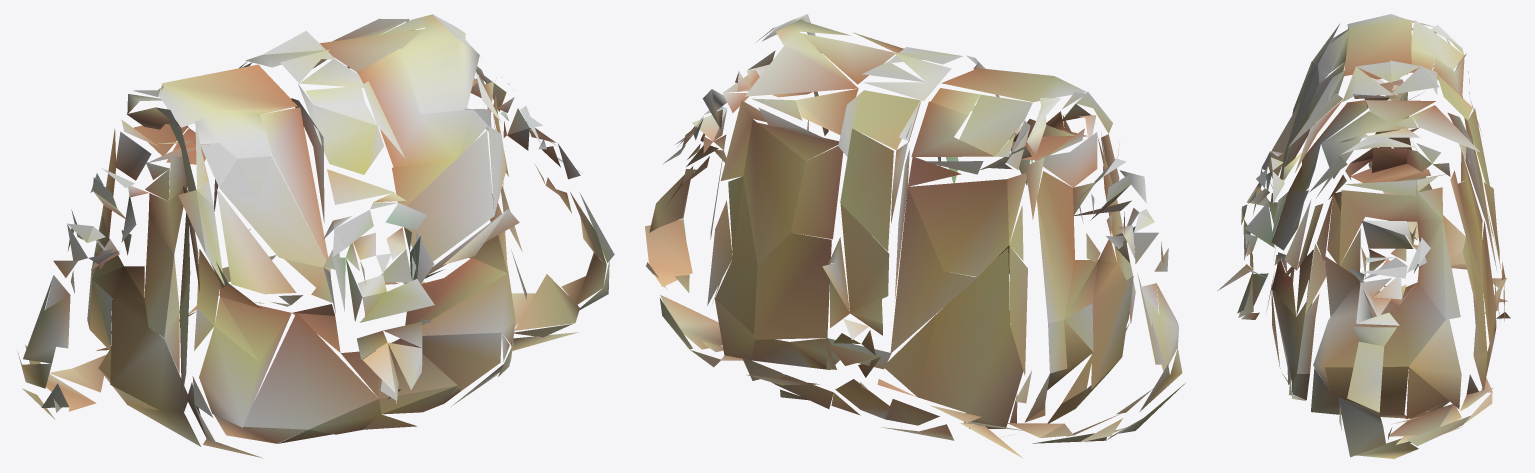
The model's file is satchel.glb.
The picture shows the model from 3 angles, left to right: view 1: azimuth 30°, elevation 25°; view 2: azimuth 150°, elevation 25°; view 3: azimuth 270°, elevation 25°; orthographic projection. The views are drawn at different scales.
Visible parts, largest first — view 1: Mesh_0; view 2: Mesh_0; view 3: Mesh_0.
Boxes of the visible parts, bbox=[...] form: Mesh_0: bbox=[17, 14, 614, 457]; Mesh_0: bbox=[645, 14, 1185, 458]; Mesh_0: bbox=[1217, 14, 1510, 458].
Bounding box in the file's own units: 0.2623 × 0.1579 × 0.1429.
